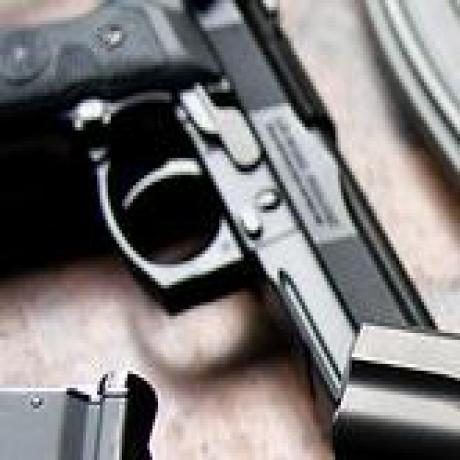weapon: (0, 1, 434, 423)
